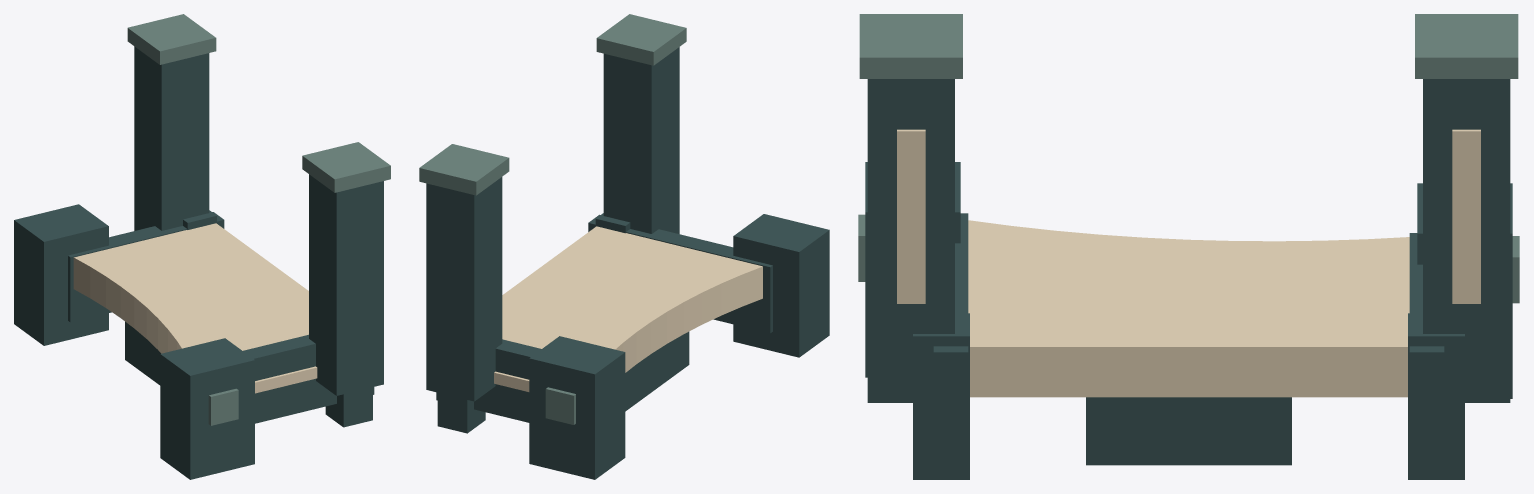
Rendered from Pier_Angled_05_Switch_lab2.glb.
The picture shows the model from 3 angles, left to right: view 1: azimuth 30°, elevation 25°; view 2: azimuth 150°, elevation 25°; view 3: azimuth 270°, elevation 25°; orthographic projection. The views are drawn at different scales.
Parts seen in each view (by area): view 1: Pier_Angled_05_Switch; view 2: Pier_Angled_05_Switch; view 3: Pier_Angled_05_Switch.
Part boxes in pixels (<box>): Pier_Angled_05_Switch: <box>14,14,390,479</box>; Pier_Angled_05_Switch: <box>419,14,829,479</box>; Pier_Angled_05_Switch: <box>858,14,1519,479</box>.
Bounding box in the file's own units: 2.38 × 2.95 × 4.17.
